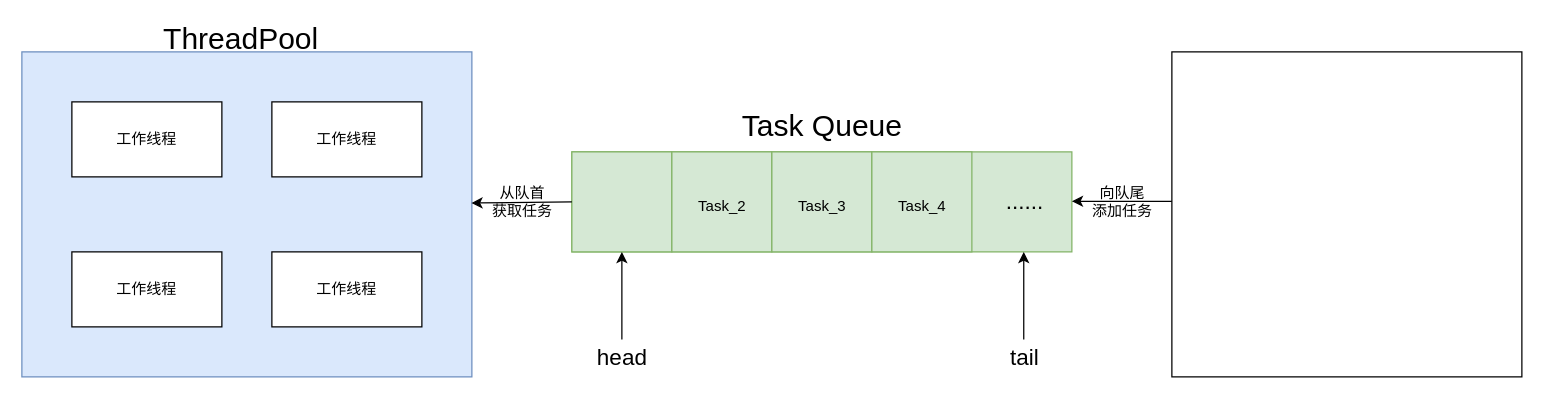
The diagram is 1544 pixels wide and 399 high, and some of its shapes have lost their labels. Each missing label, with the centre of its shape:
"Task_1" goes at pixel 621 201.
"TaskProducer 可能是单线程，也可能是多线程" goes at pixel 1346 214.
